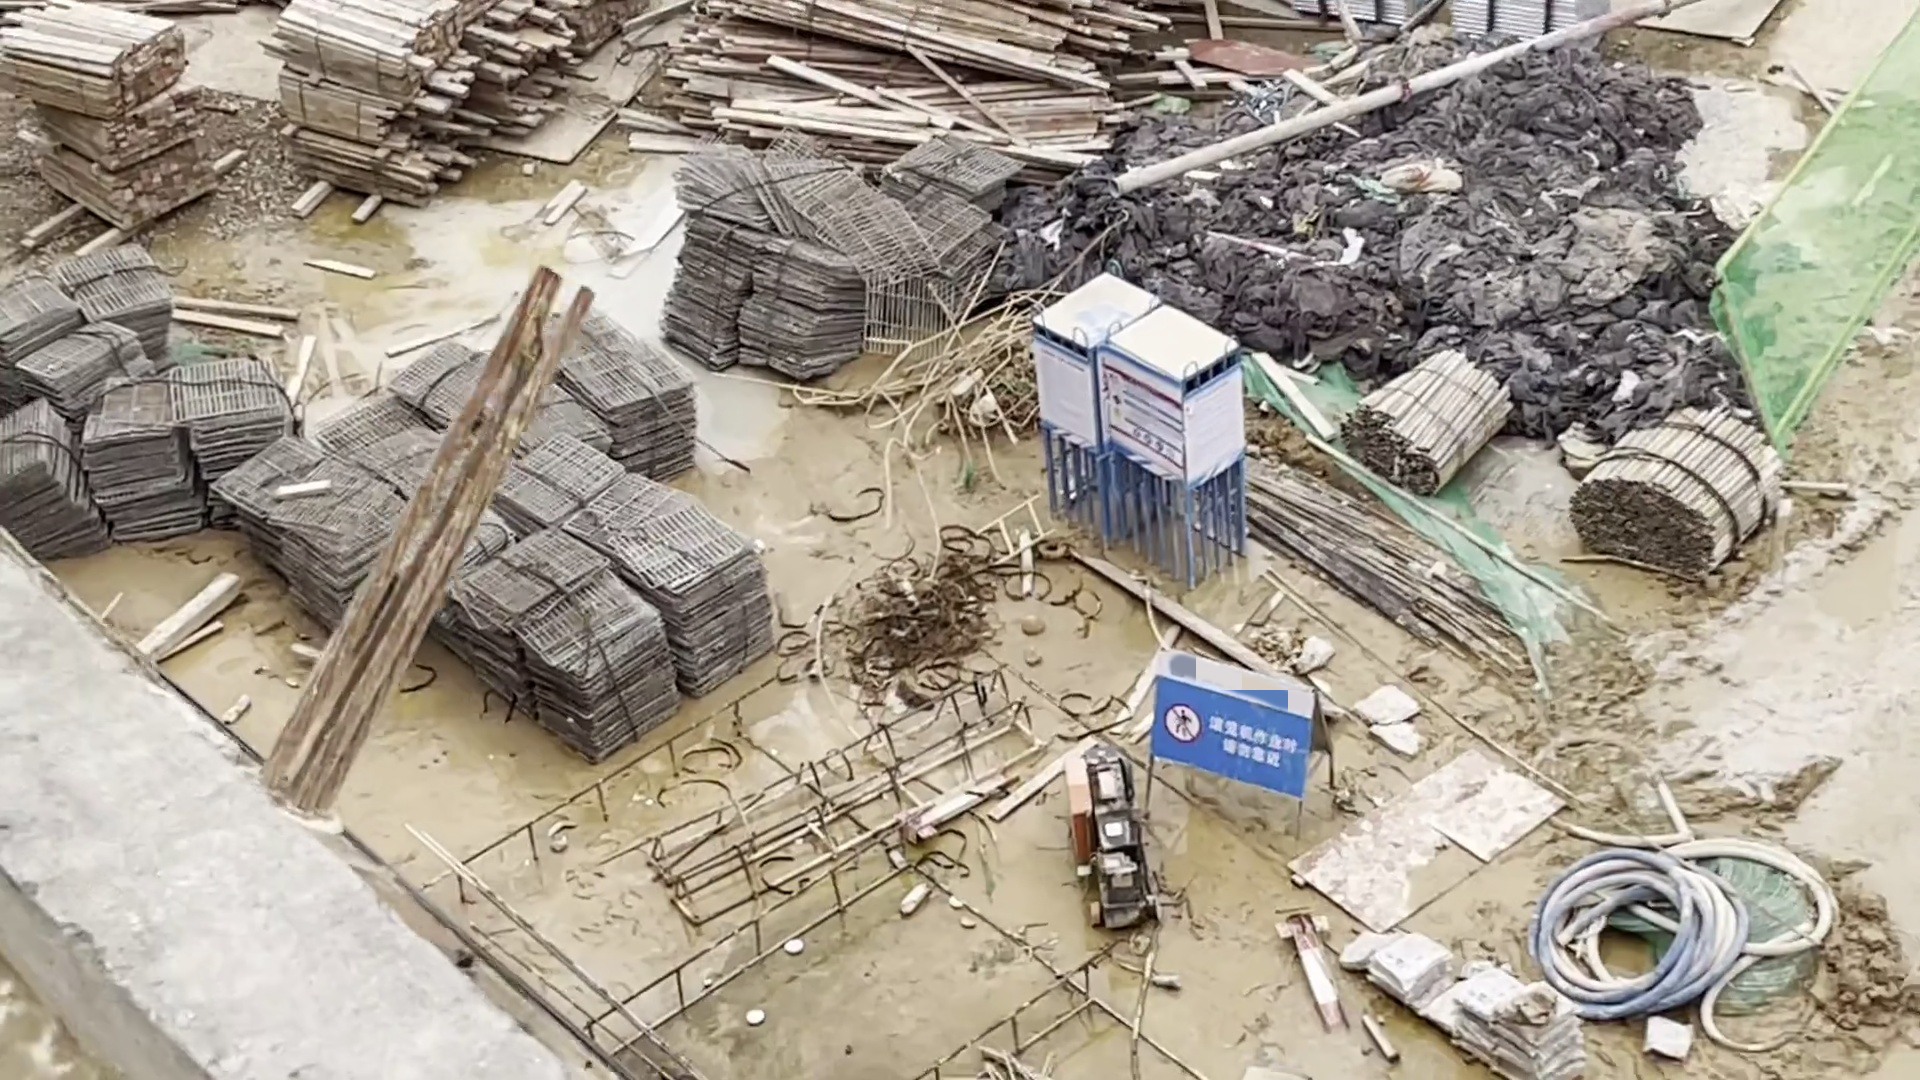slogan: (1159, 683, 1300, 786)
wood: (644, 1, 1159, 164), (274, 4, 618, 208), (1, 4, 241, 247), (1569, 411, 1785, 579), (1341, 349, 1513, 487)
